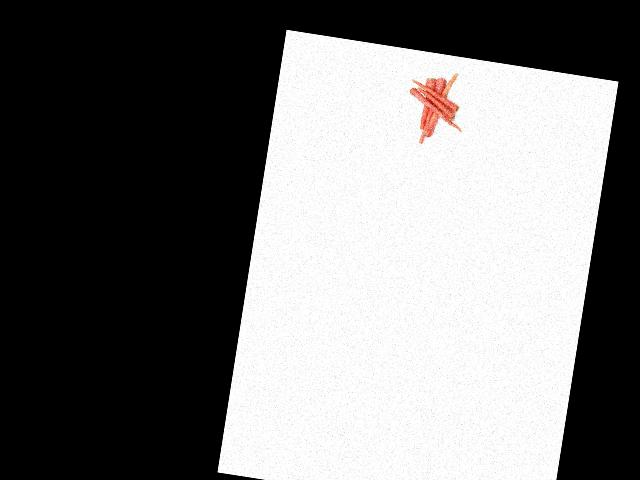carrot: (409, 78, 461, 109)
